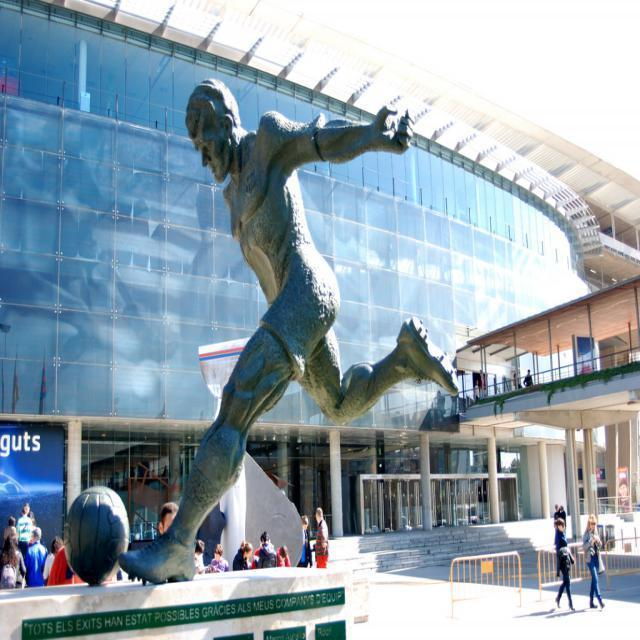ball: (63, 485, 129, 587)
